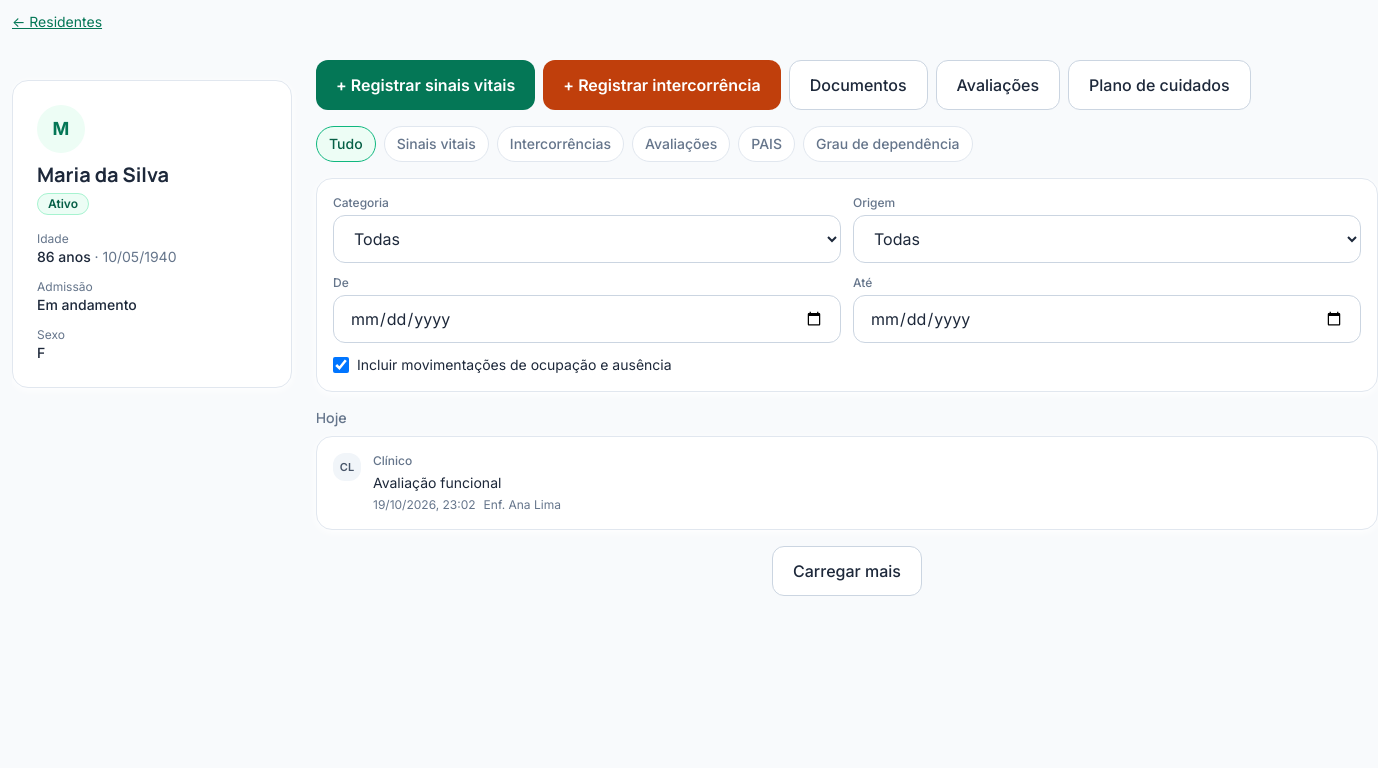
ResidenteProntuario › 9. paginação: carregar mais anexa itens usando next_cursor/has_more
Expected: the text "Avaliação funcional" is shown, [373, 474, 501, 491]
Click the button "Carregar mais" at (847, 571), box [772, 546, 922, 596]
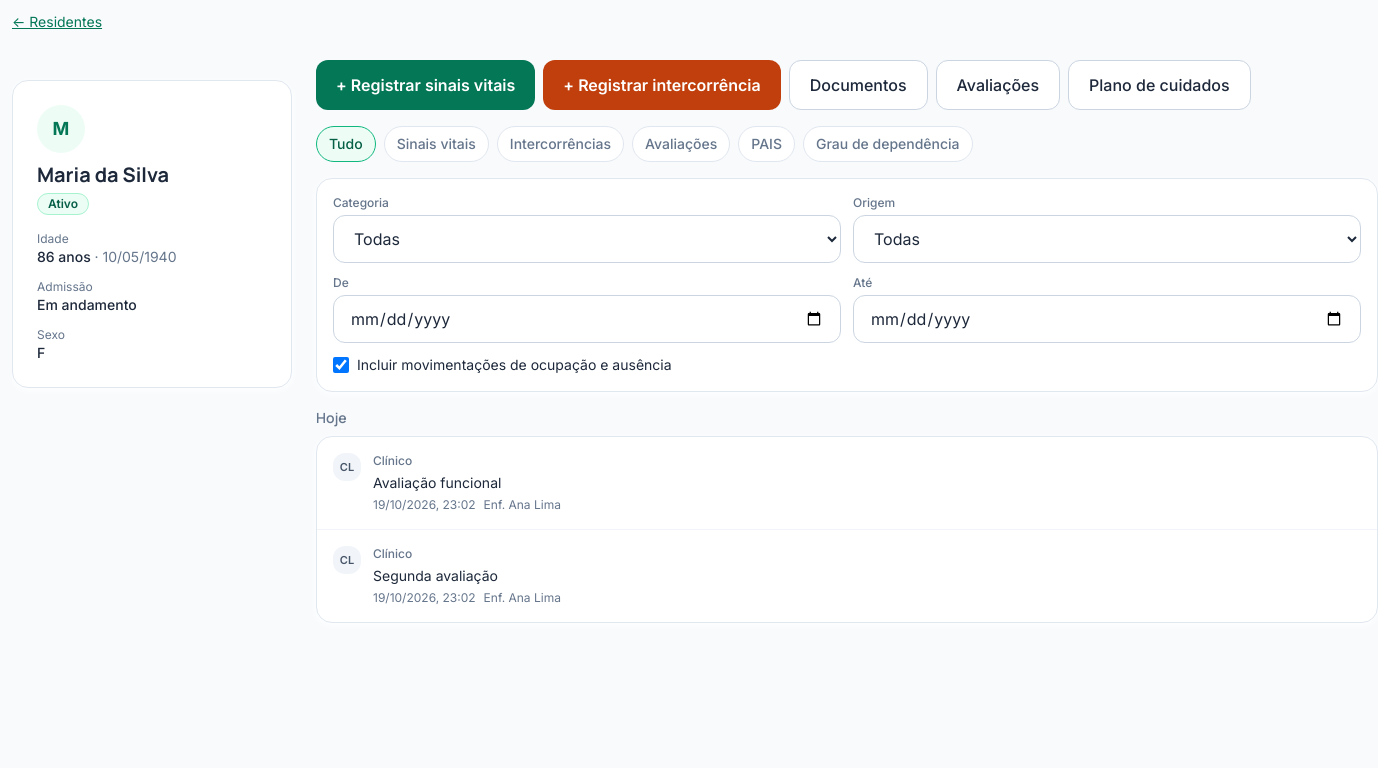
Expected: the text "Avaliação funcional" is shown, [373, 474, 501, 491]
Result: the text "Segunda avaliação" is shown at [373, 567, 498, 584]
